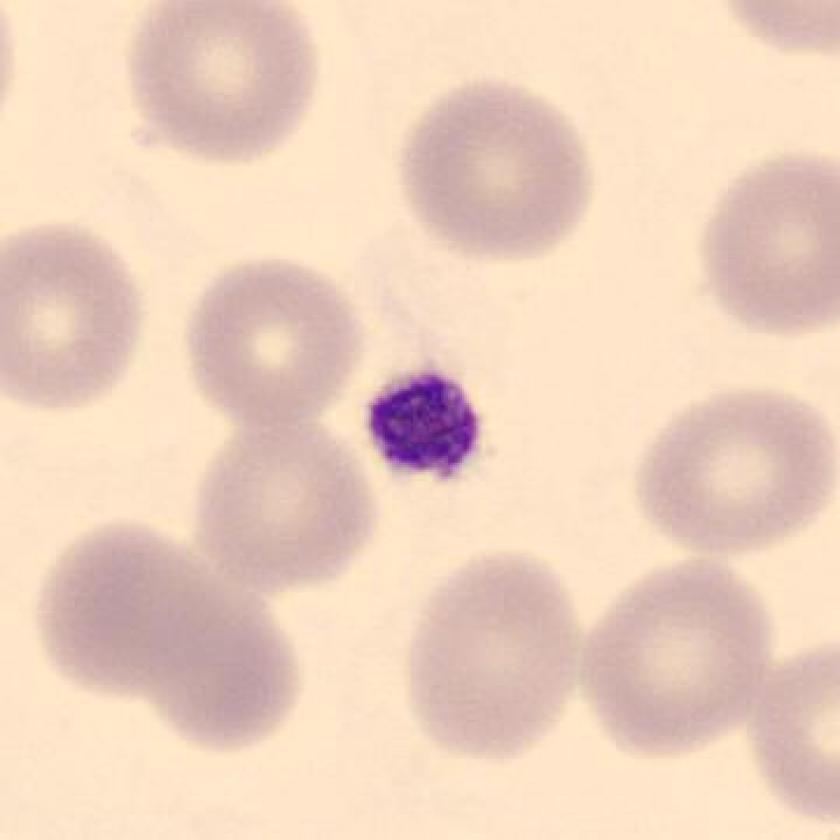platelets: (346, 360, 498, 496)
